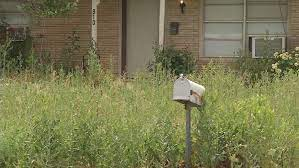grass: (1, 79, 299, 166)
